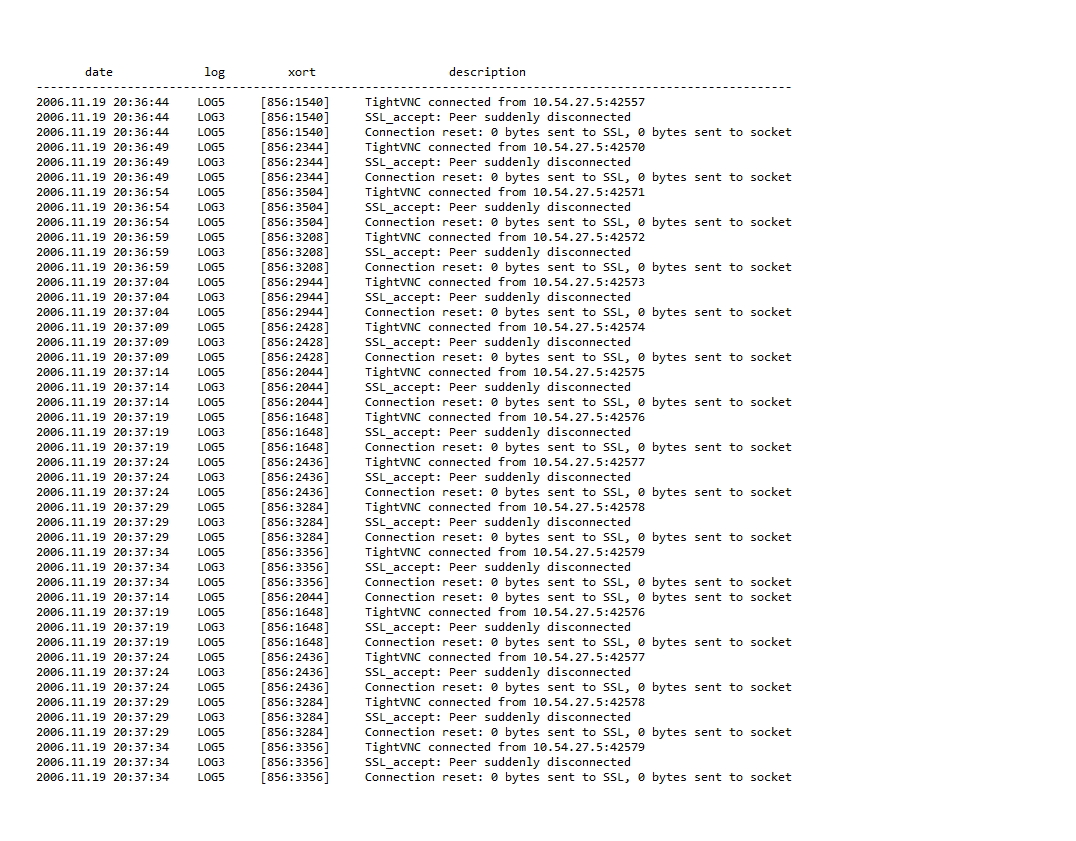table: (33, 58, 814, 799)
